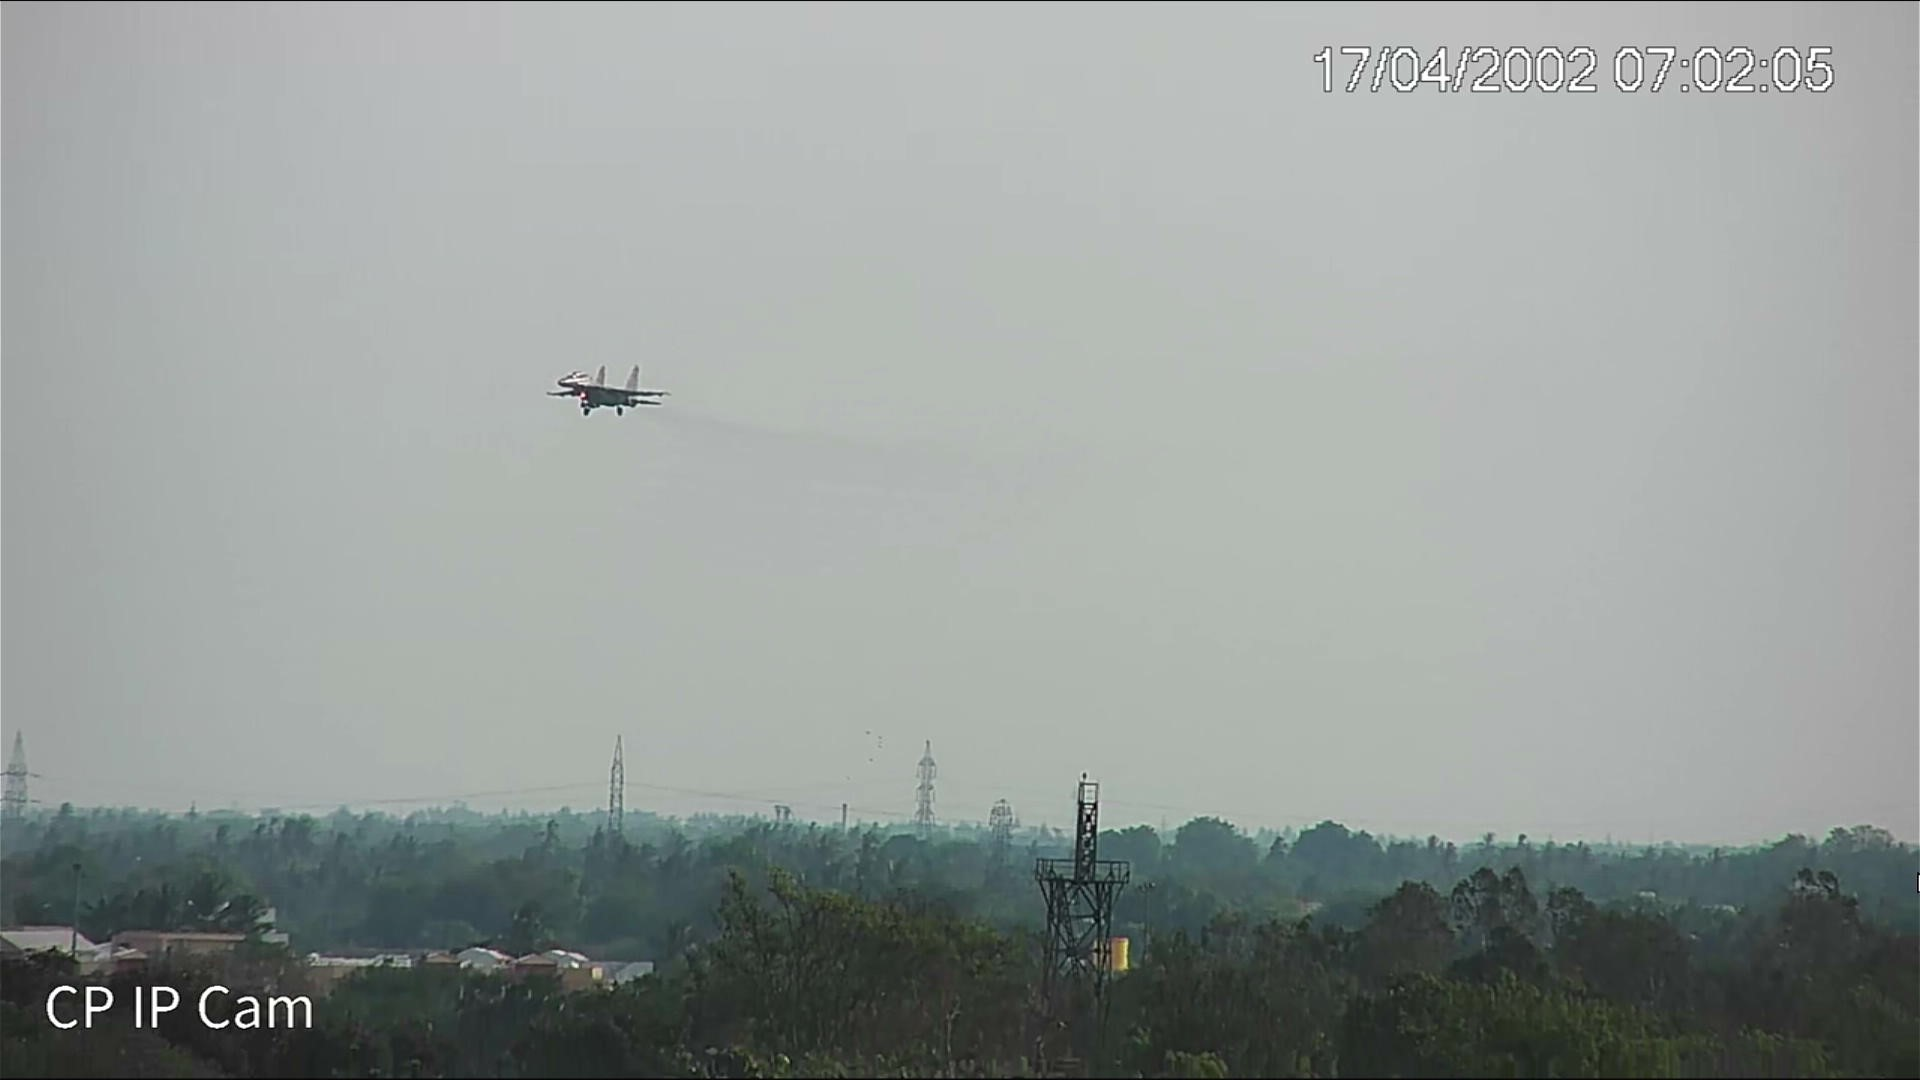SU_30: (541, 367, 673, 415)
